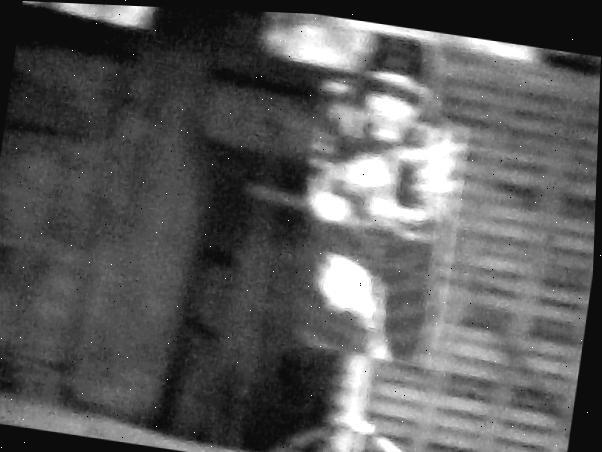chan: (246, 357, 429, 452)
